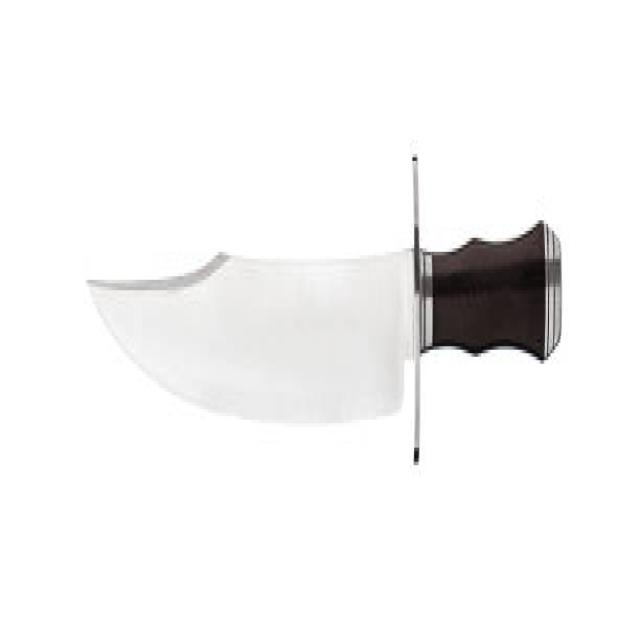knife: (83, 137, 566, 482)
